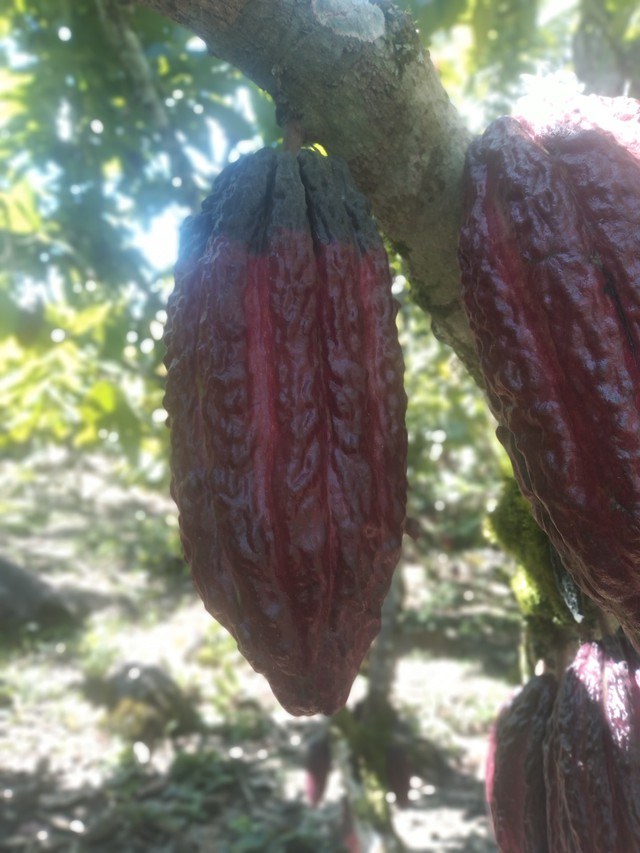phytophthora palmivora: (136, 125, 433, 728)
